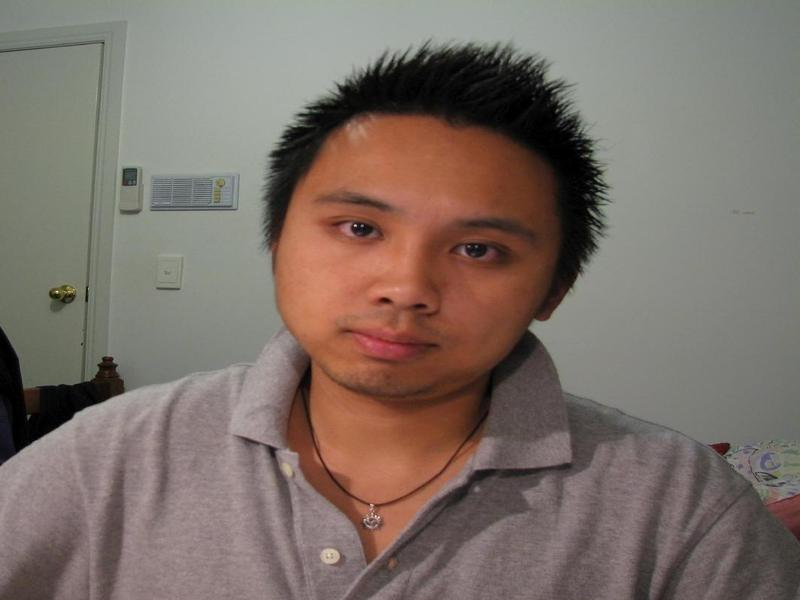person: (7, 50, 796, 599)
